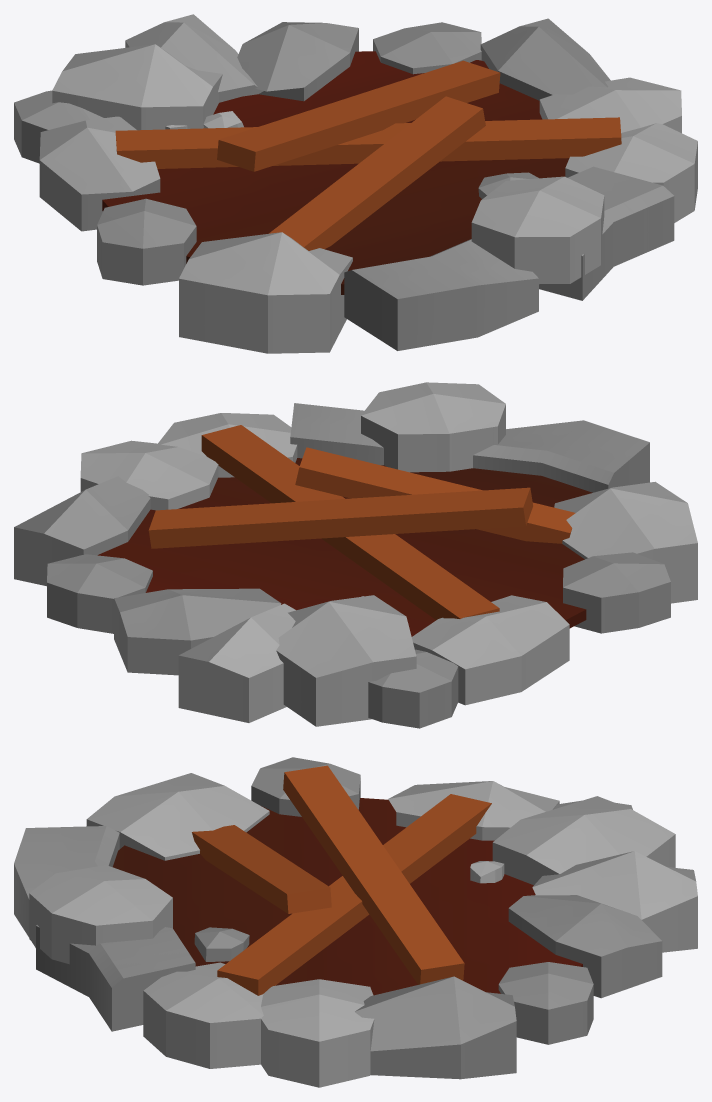
Rendered from FireBon0.fbx.
The picture shows the model from 3 angles, top to bottom: view 1: azimuth 30°, elevation 25°; view 2: azimuth 150°, elevation 25°; view 3: azimuth 270°, elevation 25°; orthographic projection. The views are drawn at different scales.
Parts seen in each view (by area): view 1: BonFire0; view 2: BonFire0; view 3: BonFire0.
Boxes of the visible parts, box(x1,y1,x2,y2) form: BonFire0: box(14, 14, 697, 353); BonFire0: box(14, 382, 697, 728); BonFire0: box(14, 757, 697, 1087).
Bounding box in the file's own units: 1.01 × 0.1944 × 1.03.
Materials: 1 (1 with a texture image).
